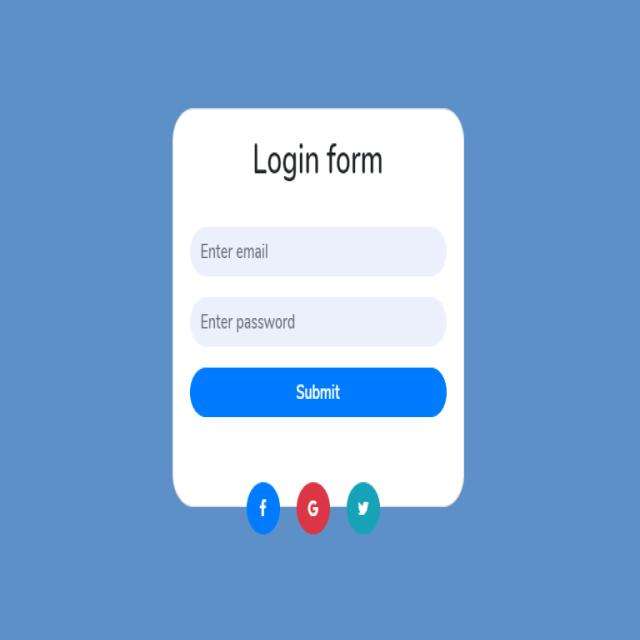Button: (188, 363, 448, 420), (244, 480, 285, 538), (293, 480, 332, 537), (344, 480, 382, 538)
Input-field: (189, 221, 446, 281), (190, 292, 447, 348)
Text: (252, 135, 386, 181)
